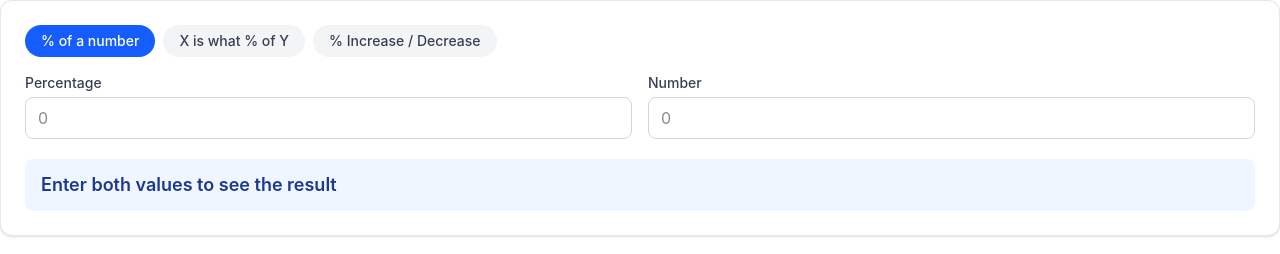
Test: PercentageCalculator › calculates percentage change correctly
Click the button "% Increase / Decrease" at (405,41), box [313,25,497,57]
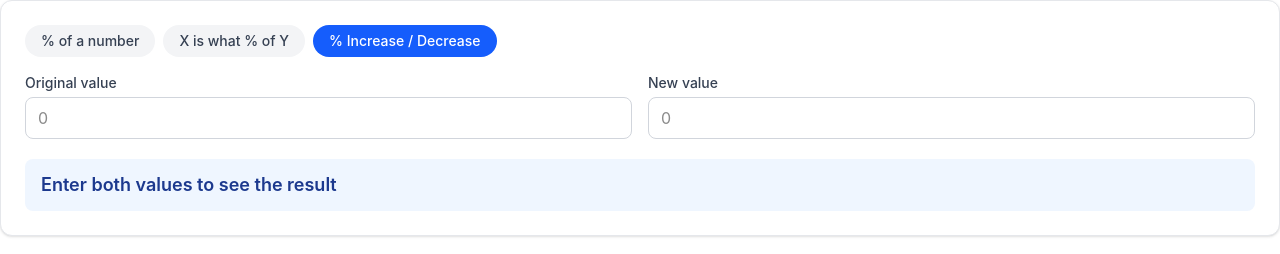
Type "100" into the number field labelled "Original value" at (328,118), box [25,97,632,139]
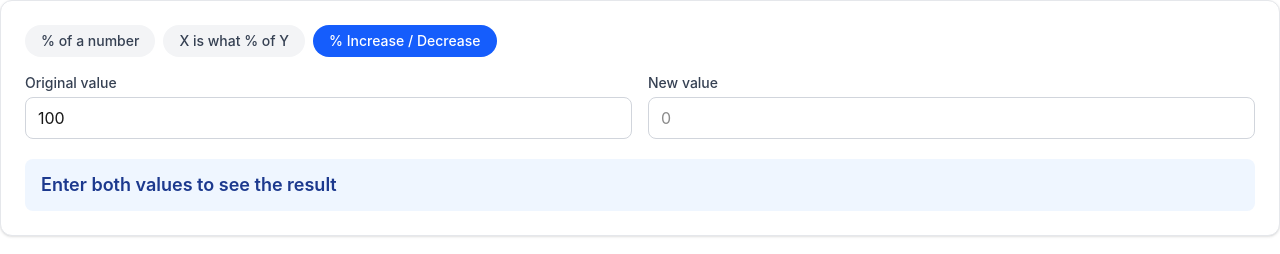
Type "120" into the number field labelled "New value" at (952,118), box [648,97,1255,139]
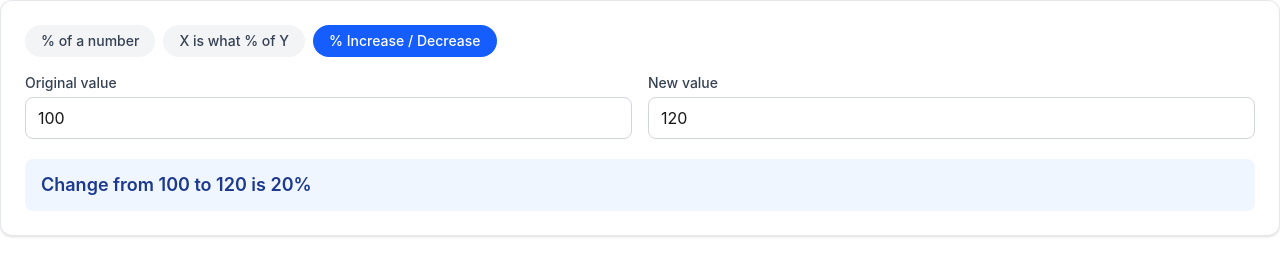
Expected: the text "Change from 100 to 120 is 20%" is shown, [25,159,1255,211]
